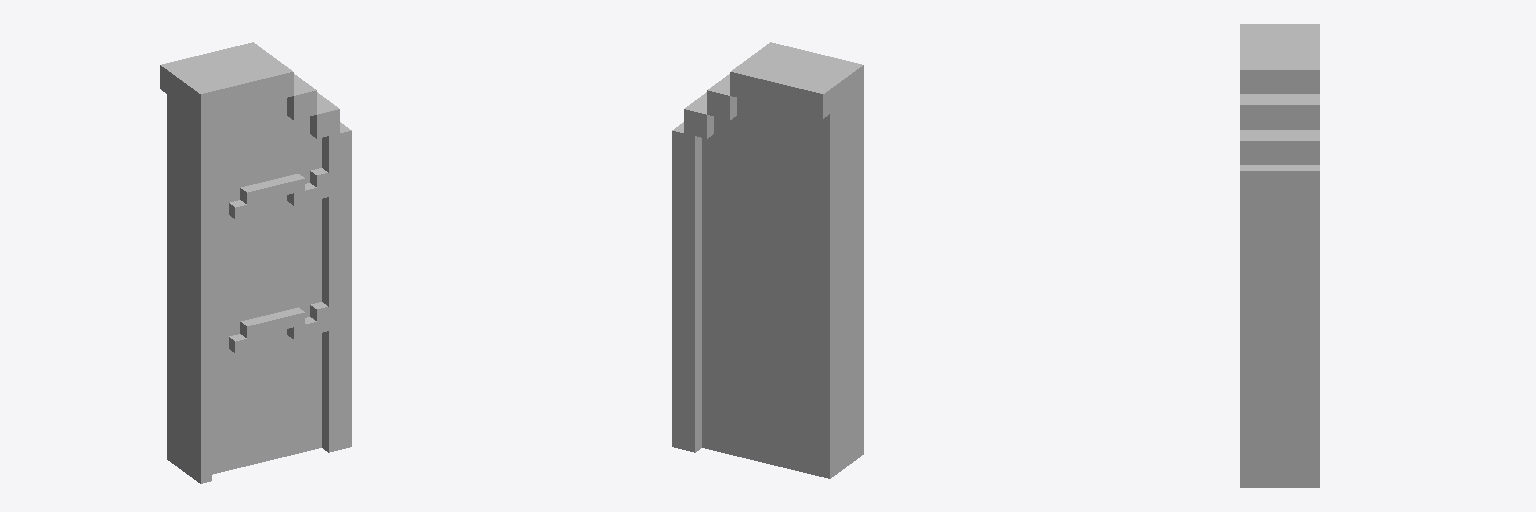
File: Gate Door Right.obj
3 views of the same model, side by side, from view 1: azimuth 30°, elevation 25°; view 2: azimuth 150°, elevation 25°; view 3: azimuth 270°, elevation 25° (orthographic).
Parts seen in each view (by area): view 1: Gate_Door_Right; view 2: Gate_Door_Right; view 3: Gate_Door_Right.
Boxes of the visible parts, x1=… form: Gate_Door_Right: x1=160, y1=42, x2=351, y2=483; Gate_Door_Right: x1=672, y1=42, x2=863, y2=478; Gate_Door_Right: x1=1240, y1=24, x2=1319, y2=487.
Size of the model in its own units: 13 by 32 by 6.